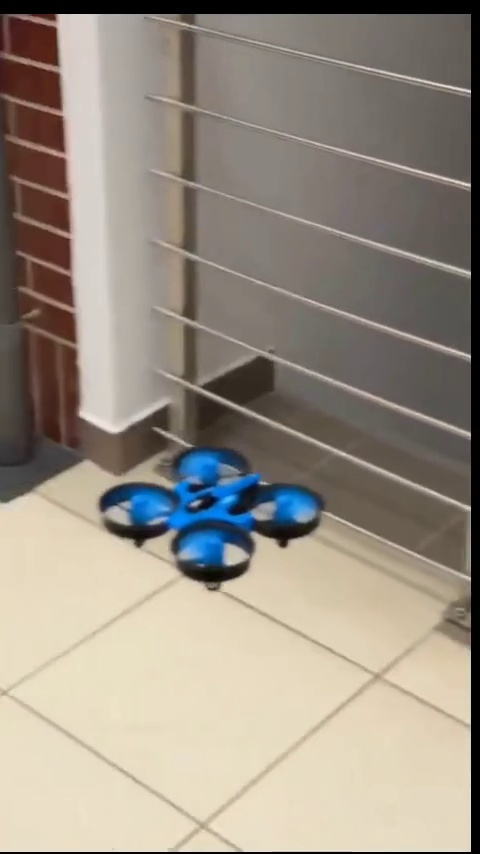drone: (84, 440, 328, 586)
